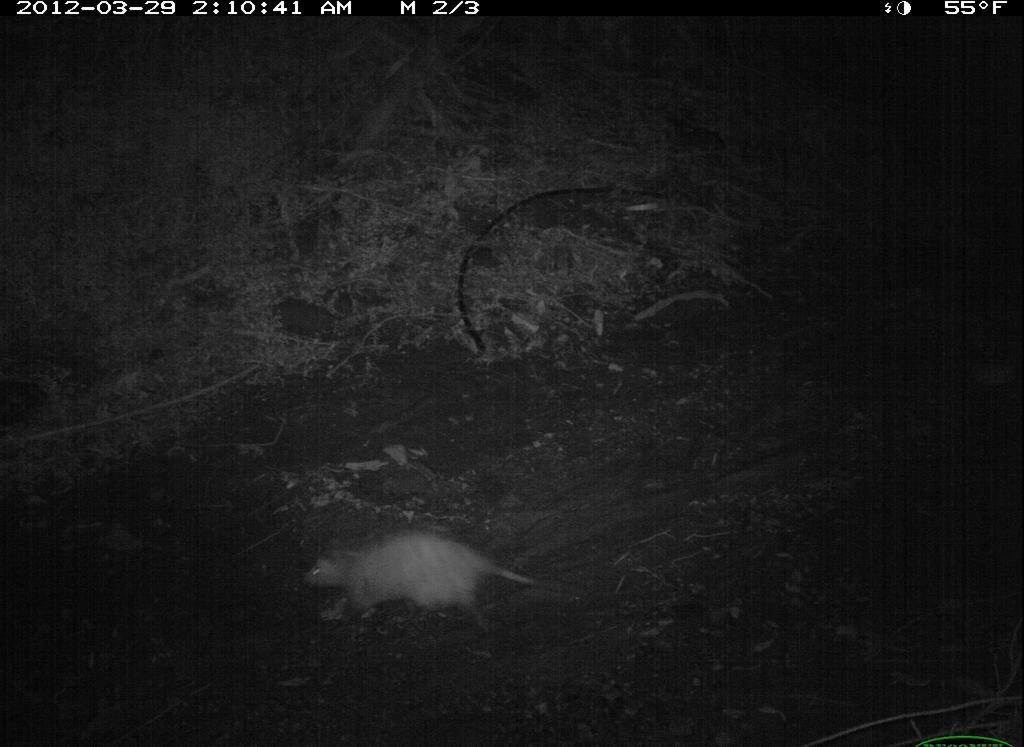opossum: (299, 524, 575, 633)
